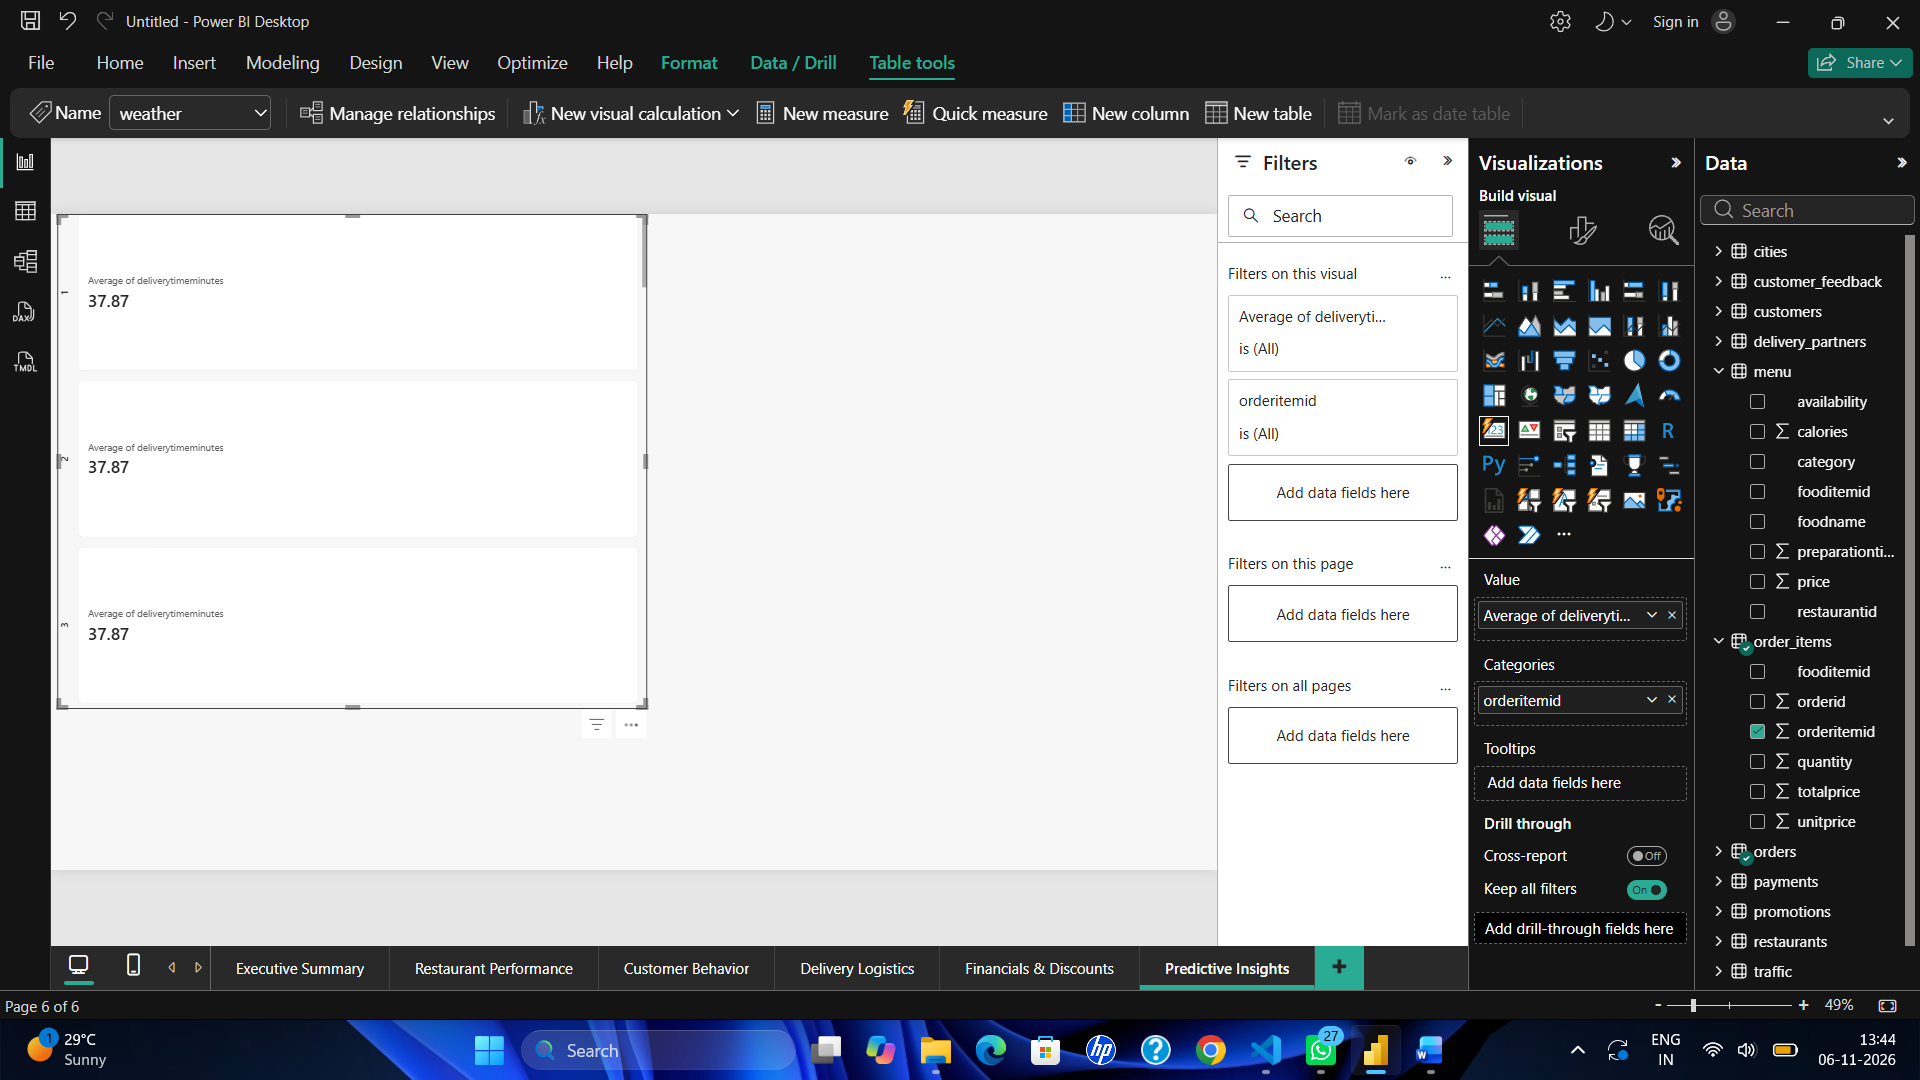

Layout of this report page (visuals, bound fields, positions):
{"tool":"powerbi","page":{"name":"Predictive Insights","canvas":[1920,1080],"ordinal":5},"visuals":[{"type":"cardVisual","fields":{"Data":["Avg(orders.deliverytimeminutes)"],"Rows":["order_items.orderitemid"]},"box":[10.3,0,971.5,815.1],"z":0}]}

Visuals, with their boxes on the page's 1920x1080 design canvas (x1, y1, x2, y2). These are canvas units, not pixel positions in the 1920x1080 screenshot, which may show the page scaled, cropped or inside an application window:
cardVisual - Avg(orders.deliverytimeminutes) x order_items.orderitemid: region(10, 0, 982, 815)
